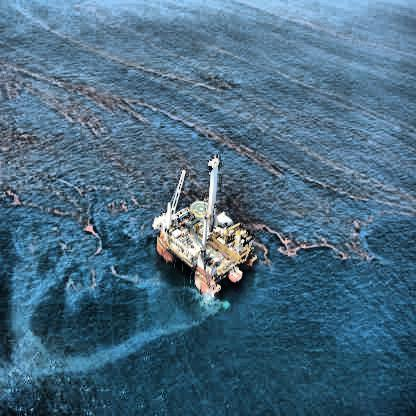sheen: (0, 255, 214, 392)
truecolor: (219, 145, 416, 267), (1, 133, 186, 254), (0, 61, 189, 136), (185, 124, 282, 176)
